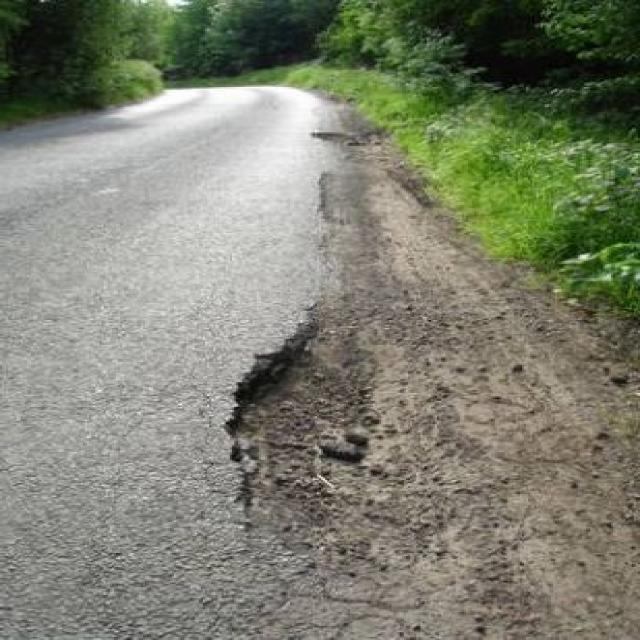Pothole: (219, 302, 476, 587)
